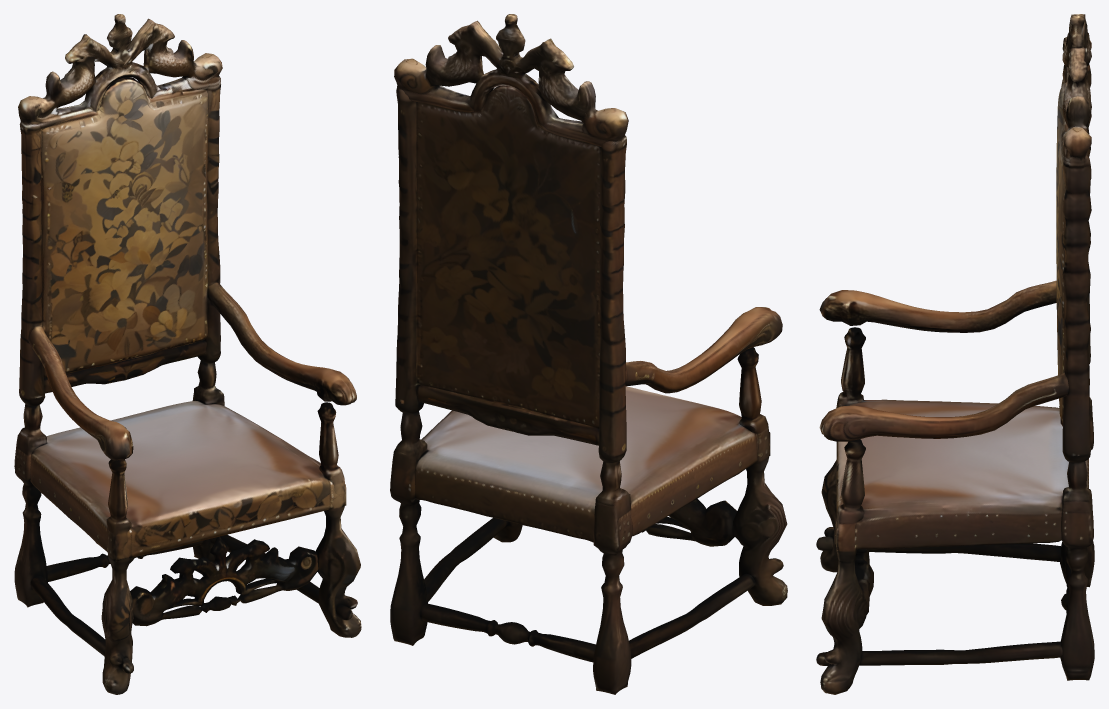
3 views of the same model, side by side, from view 1: azimuth 30°, elevation 25°; view 2: azimuth 150°, elevation 25°; view 3: azimuth 270°, elevation 25° (orthographic). The views are drawn at different scales.
Visible parts, largest first — view 1: root.1, root.0, root.2, root.3, root.7, root.6, root.5, root.9, root.11, root.4, root.10, root.8 (+2 smaller); view 2: root.1, root.0, root.2, root.7, root.4, root.5, root.11, root.8, root.12, root.10, root.13, root.3; view 3: root.0, root.8, root.6, root.9, root.10, root.4, root.12, root.2, root.5, root.1, root.3, root.11.
Part boxes in pixels (x1,y1,x2,y2): root.1: [40, 77, 208, 377]; root.0: [30, 401, 346, 561]; root.2: [18, 14, 222, 129]; root.3: [130, 536, 318, 626]; root.7: [19, 121, 45, 406]; root.6: [315, 402, 361, 637]; root.5: [101, 459, 133, 694]; root.9: [207, 282, 356, 405]; root.11: [14, 404, 47, 607]; root.4: [30, 534, 352, 673]; root.10: [28, 326, 133, 460]; root.8: [197, 76, 220, 363]; root.1: [416, 85, 600, 428]; root.0: [415, 386, 770, 542]; root.2: [394, 14, 628, 146]; root.7: [598, 135, 626, 462]; root.4: [420, 517, 755, 662]; root.5: [733, 347, 787, 605]; root.11: [593, 461, 632, 694]; root.8: [395, 87, 423, 413]; root.12: [390, 411, 427, 645]; root.10: [625, 307, 782, 393]; root.13: [416, 385, 599, 445]; root.3: [642, 498, 737, 546]; root.0: [835, 399, 1088, 551]; root.8: [1062, 151, 1091, 462]; root.6: [820, 439, 866, 694]; root.9: [819, 372, 1068, 441]; root.10: [819, 280, 1056, 332]; root.4: [816, 536, 1070, 665]; root.12: [1060, 461, 1094, 680]; root.2: [1062, 14, 1091, 160]; root.5: [820, 327, 865, 572]; root.1: [1056, 73, 1068, 423]; root.3: [854, 549, 873, 614]; root.11: [1060, 397, 1094, 587].
Size of the model in its own units: 0.6506 by 1.39 by 0.5707.
14 materials, 14 textured.
